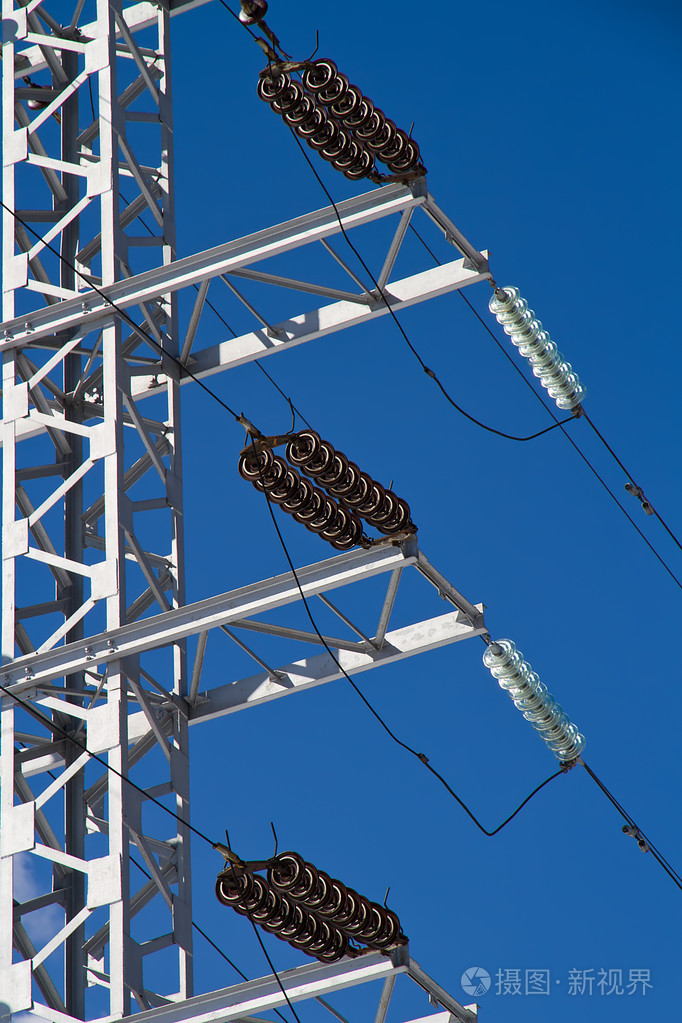insulator: (256, 67, 374, 183), (311, 59, 424, 174), (479, 639, 583, 763), (271, 850, 402, 948), (291, 430, 414, 532), (221, 863, 345, 964), (239, 447, 360, 549), (486, 285, 586, 407)
